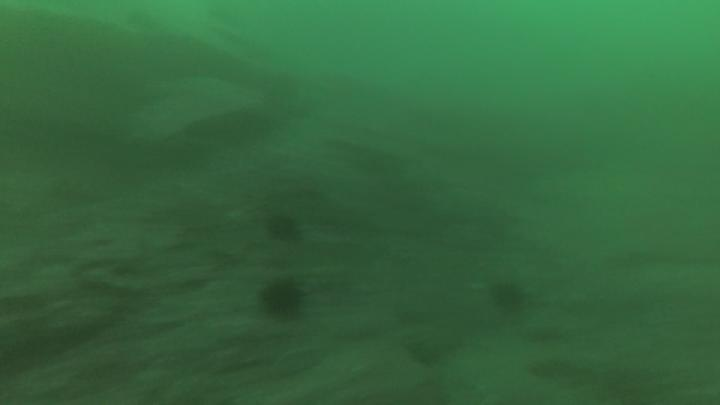echinus: (262, 284, 301, 318), (489, 282, 525, 314), (266, 215, 299, 245)
